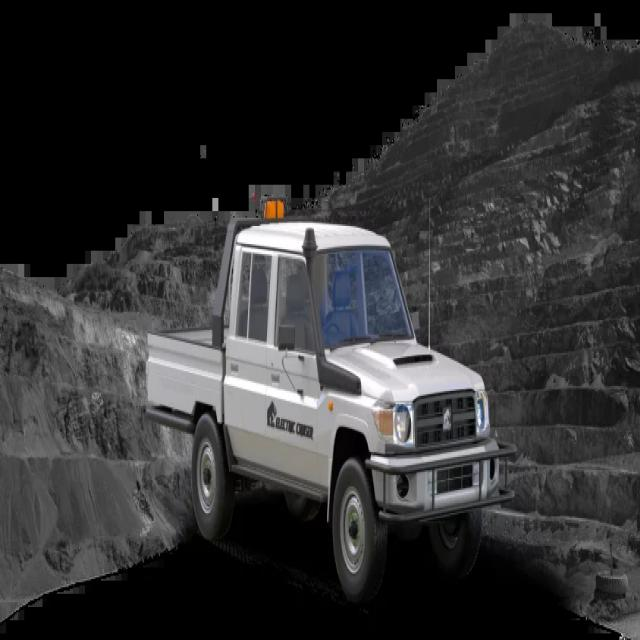light_vehicle: (127, 165, 510, 617)
